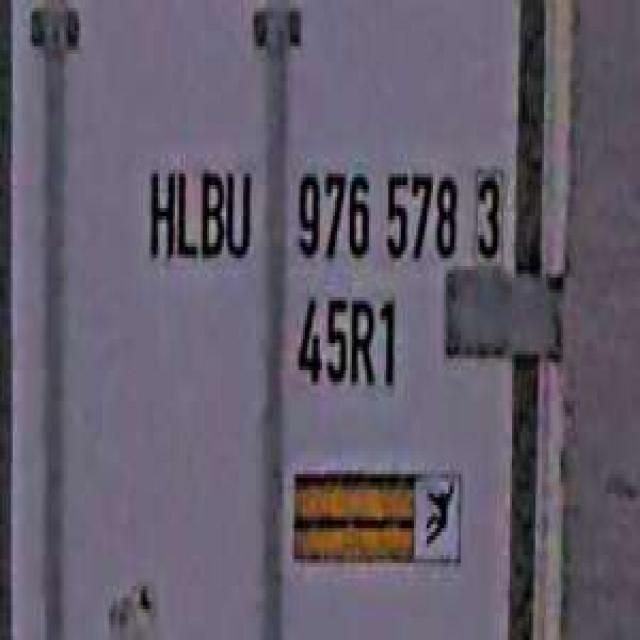dv: (470, 162, 509, 270)
owner: (139, 146, 256, 274)
serial: (290, 146, 461, 274)
size: (290, 281, 403, 401)
